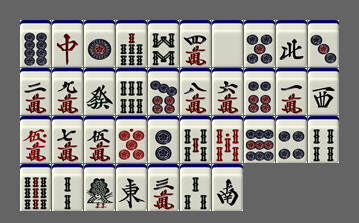0m: (20, 116, 51, 163)
0p: (116, 116, 147, 163)
0s: (212, 116, 243, 163)
1m: (276, 68, 307, 115)
1p: (84, 20, 115, 67)
1s: (84, 164, 115, 211)
1z: (116, 164, 147, 211)
2m: (20, 68, 51, 115)
2p: (148, 116, 179, 163)
2s: (52, 164, 83, 211)
2z: (212, 164, 243, 211)
3m: (148, 164, 179, 211)
3p: (308, 20, 339, 67)
3s: (180, 164, 211, 211)
3z: (308, 68, 339, 115)
4m: (180, 20, 211, 67)
4p: (276, 116, 307, 163)
4s: (308, 116, 339, 163)
4z: (276, 20, 307, 67)
5m: (84, 116, 115, 163)
5p: (244, 20, 275, 67)
5s: (180, 116, 211, 163)
5z: (212, 20, 243, 67)
6m: (212, 68, 243, 115)
6p: (244, 68, 275, 115)
6s: (116, 68, 147, 115)
6z: (84, 68, 115, 115)
7m: (52, 116, 83, 163)
7p: (148, 68, 179, 115)
7s: (116, 20, 147, 67)
7z: (52, 20, 83, 67)
8m: (180, 68, 211, 115)
8p: (20, 20, 51, 67)
8s: (148, 20, 179, 67)
9m: (52, 68, 83, 115)
9p: (244, 116, 275, 163)
9s: (20, 164, 51, 211)
